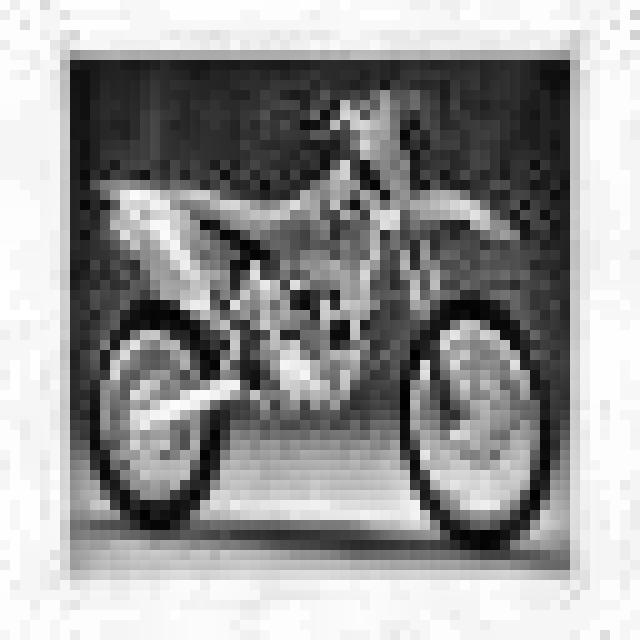mopeds: (97, 75, 565, 568)
